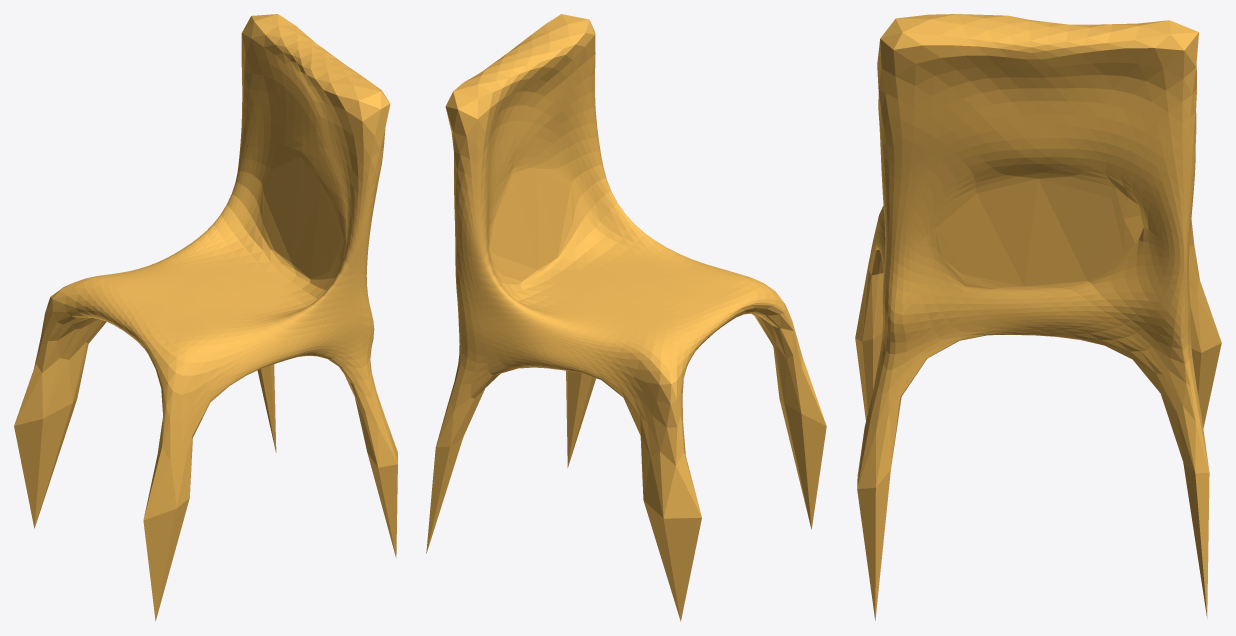
The model's file is Dining_Chair.glb.
3 renders of one model, left to right at view 1: azimuth 30°, elevation 25°; view 2: azimuth 150°, elevation 25°; view 3: azimuth 270°, elevation 25°, orthographic. The views are drawn at different scales.
Visible parts, largest first — view 1: final_model (5); view 2: final_model (5); view 3: final_model (5).
Part boxes in pixels (left/top/right/bottom): final_model (5): left=14, top=14, right=397, bottom=620; final_model (5): left=426, top=14, right=826, bottom=621; final_model (5): left=855, top=14, right=1221, bottom=620.
Size of the model in its own units: 6.23 by 10.35 by 5.79.
